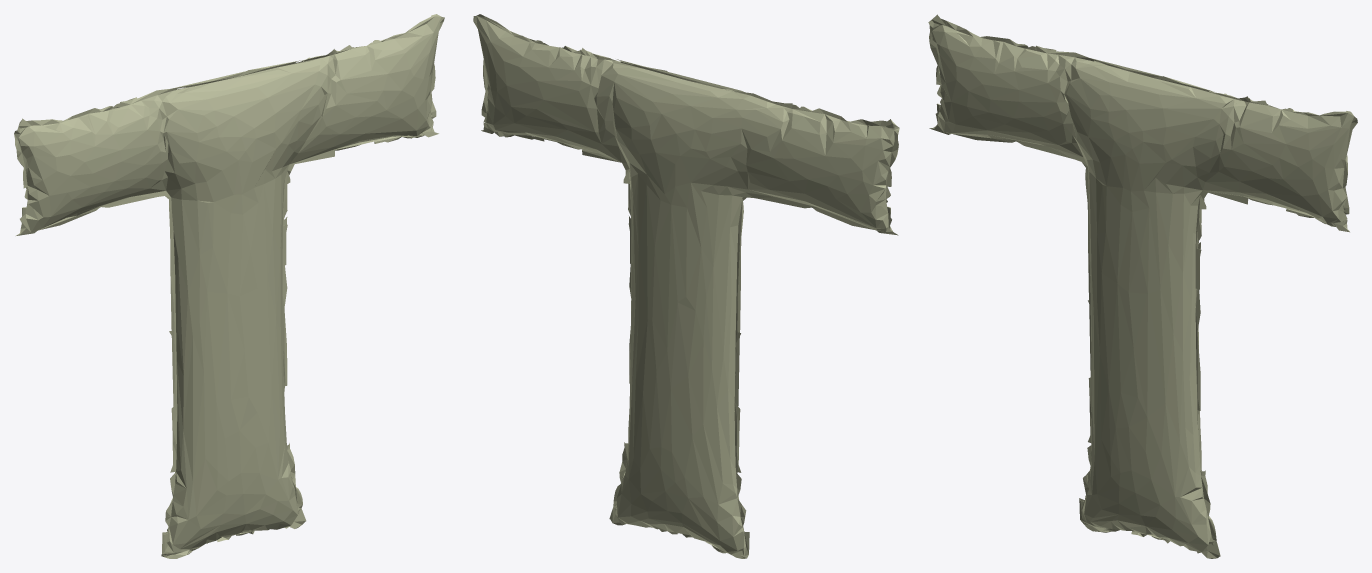
Rendered from tinker.obj.
The picture shows the model from 3 angles, left to right: view 1: azimuth 30°, elevation 25°; view 2: azimuth 150°, elevation 25°; view 3: azimuth 330°, elevation 25°; orthographic projection.
Parts seen in each view (by area): view 1: obj_0; view 2: obj_0; view 3: obj_0.
Boxes of the visible parts, x1,y1,x2,y2 form: obj_0: (14,14,444,558); obj_0: (473,14,899,558); obj_0: (928,14,1357,558).
Bounding box in the file's own units: 13.86 × 14.91 × 1.62.
